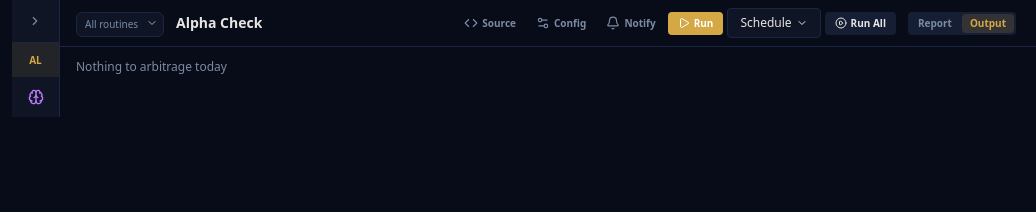
the library opened on one run › opens a run that wrote no report on its own output
The image size is (1036, 212).
And the reports are still one click away, not a different pane.
Step 1. Click the button "report" → coordinates (935, 23), box top-left (910, 14), bottom-right (960, 32)
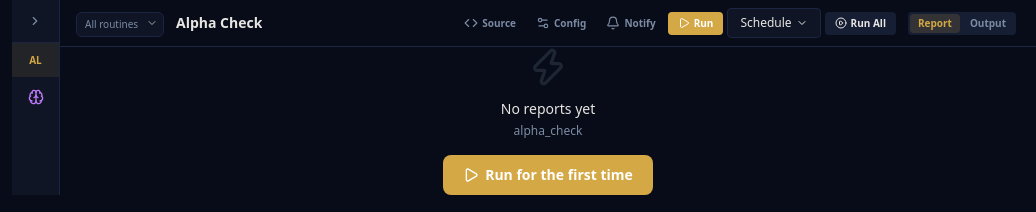
Result: the text "No reports yet" is shown at top-left (501, 99), bottom-right (595, 119)
